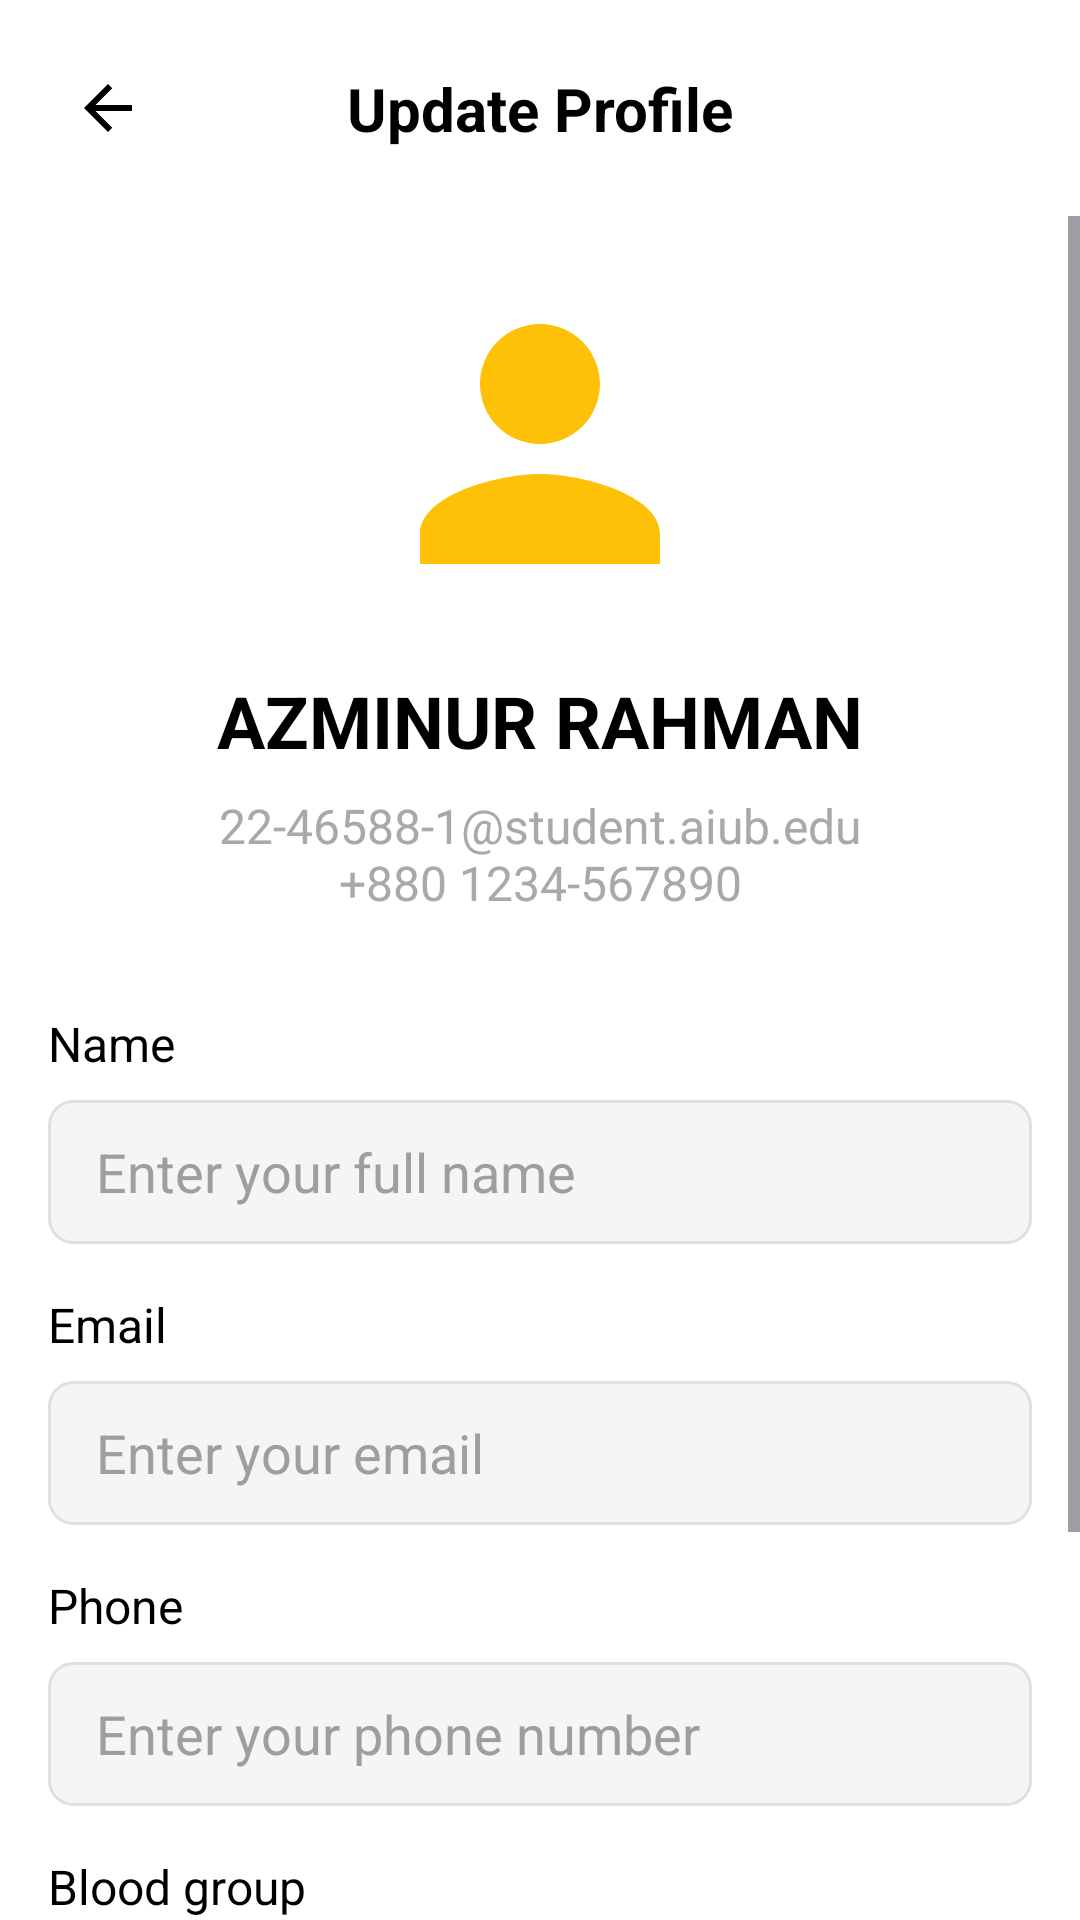

Screen size 1080*1920. Icon name, then its center in pixels as (x,y):
arrow back: (108,108)
